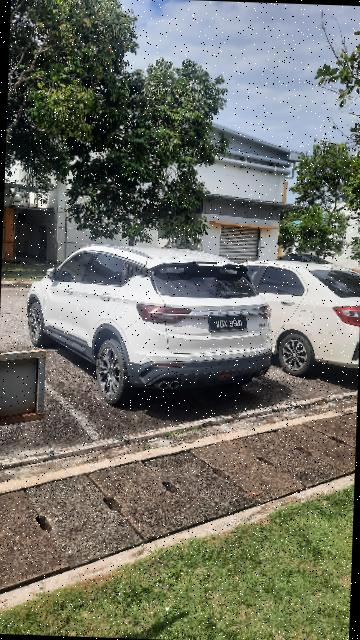License_Plate: (209, 314, 251, 336)
car: (19, 244, 278, 414), (227, 252, 360, 377)
